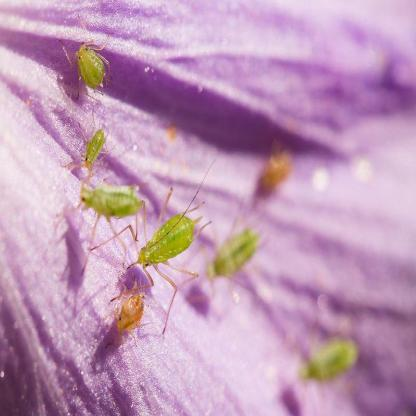aphid: (107, 187, 208, 289), (53, 11, 118, 97), (74, 172, 152, 238), (290, 328, 363, 390), (61, 110, 116, 178), (207, 228, 268, 286), (243, 139, 291, 208), (108, 280, 153, 343)
